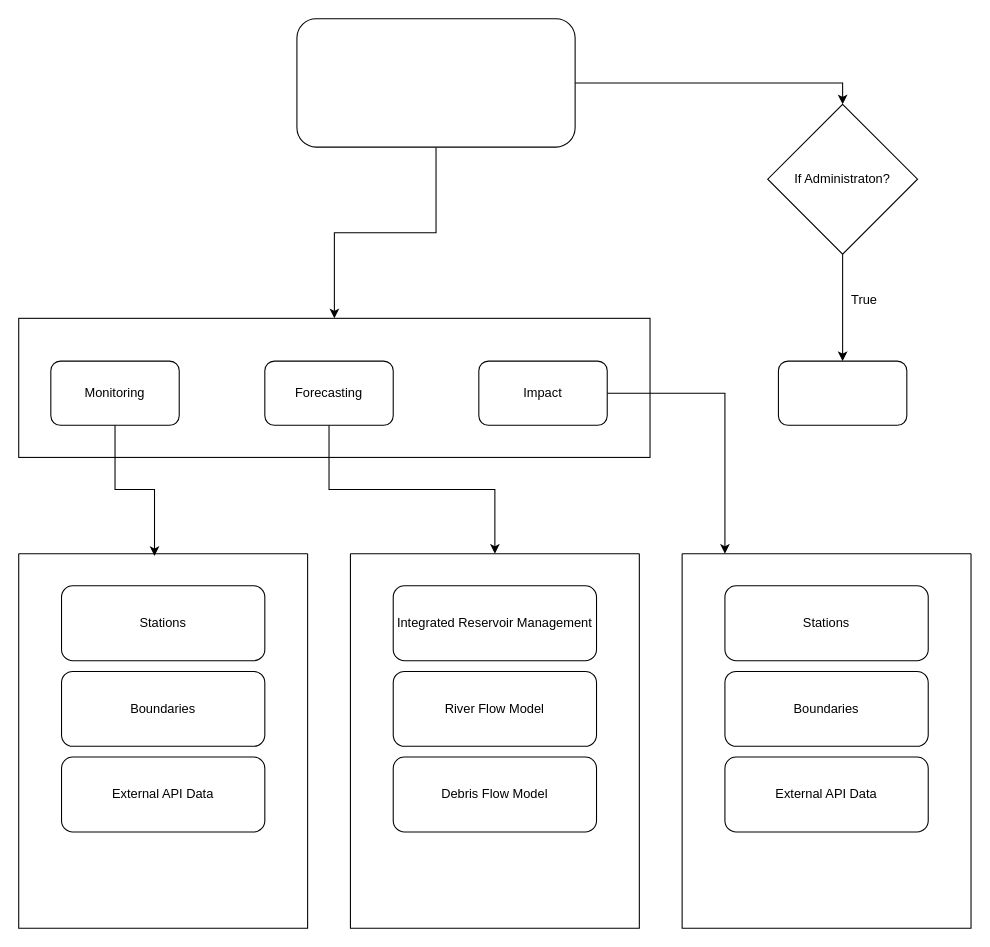
This 990x947 diagram has some shape labels left out. The shapes that lost their labels are listed below. From the top down, each one's box as (x1, y1, x2, y2) in pixels, then its label:
(296, 18, 575, 147): COS-IT-FLOWS Dashboard
(777, 360, 907, 425): Response
